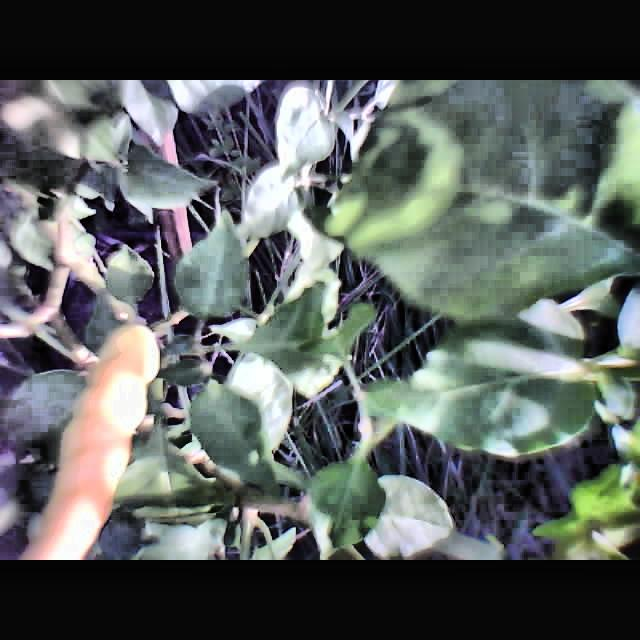Cabai: (0, 313, 179, 560)
